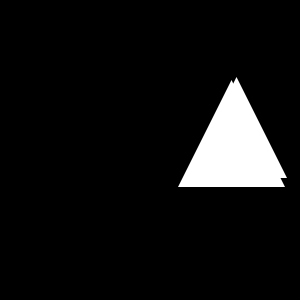triangle: (178, 80, 285, 187), (186, 77, 287, 178)
